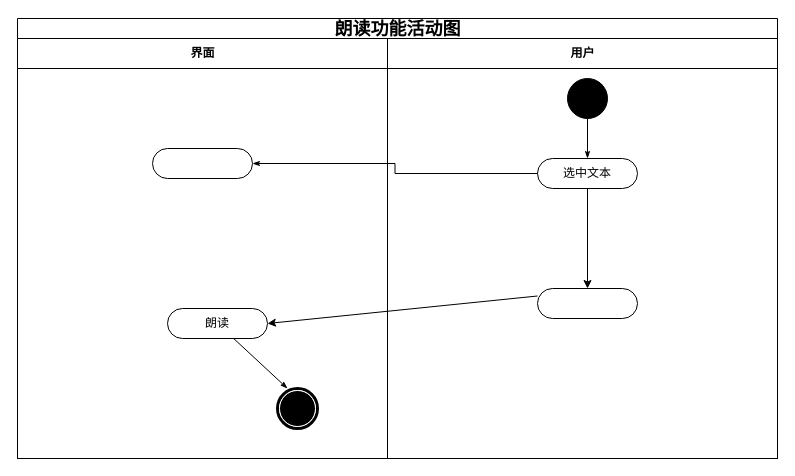
Some shapes in this 795 by 476 pixel diagram are drawn without their labels. The shapes that lost their labels are listed below. From the top down, each one's centre as x and y in pixels, then its label:
At point (202, 163): "显示朗读选项".
At point (587, 303): "选中朗读选项".
